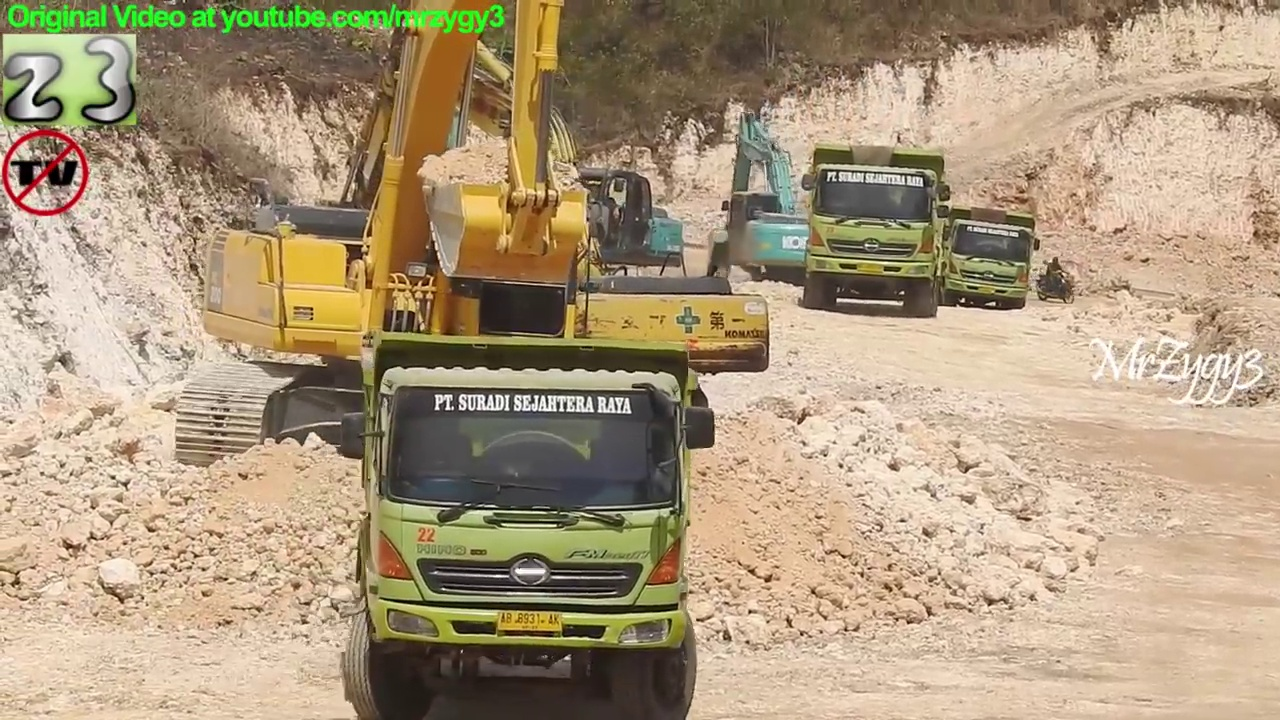excavator: (164, 1, 654, 486), (280, 1, 778, 447), (365, 1, 695, 299), (700, 106, 844, 296)
truck: (341, 323, 723, 720), (793, 138, 958, 324), (930, 196, 1046, 316)
